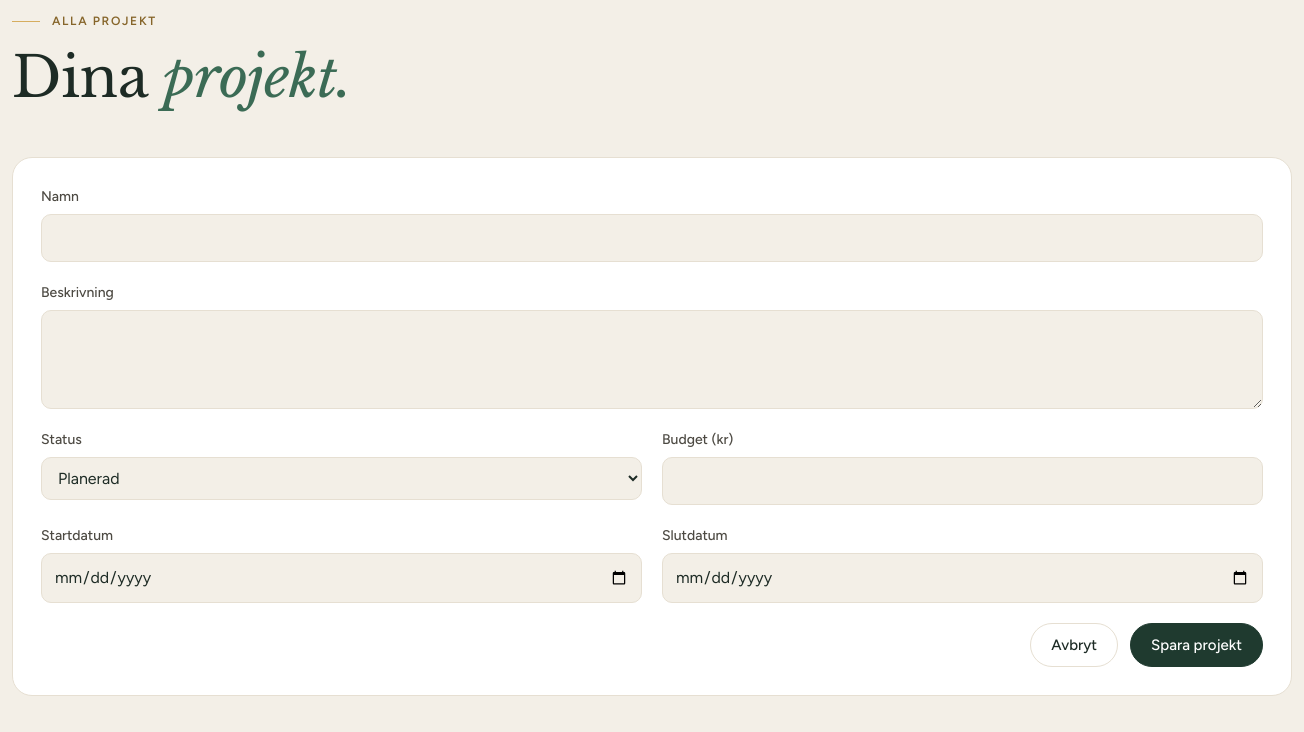
Test: Projects › closes the form opened from the address when Avbryt is clicked
Click the button "Avbryt" at {"x": 1074, "y": 645}, box 1030,623 -> 1118,667
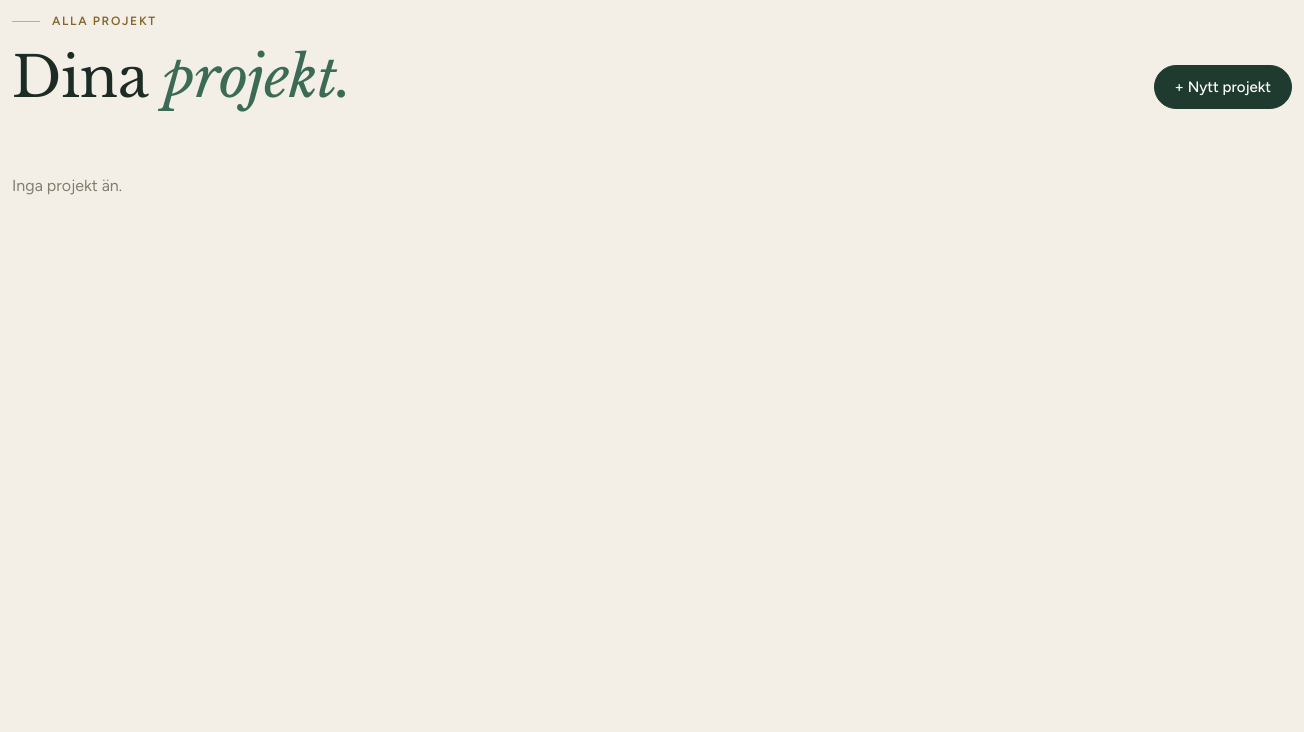
Expected: the text labelled "Namn" is gone
